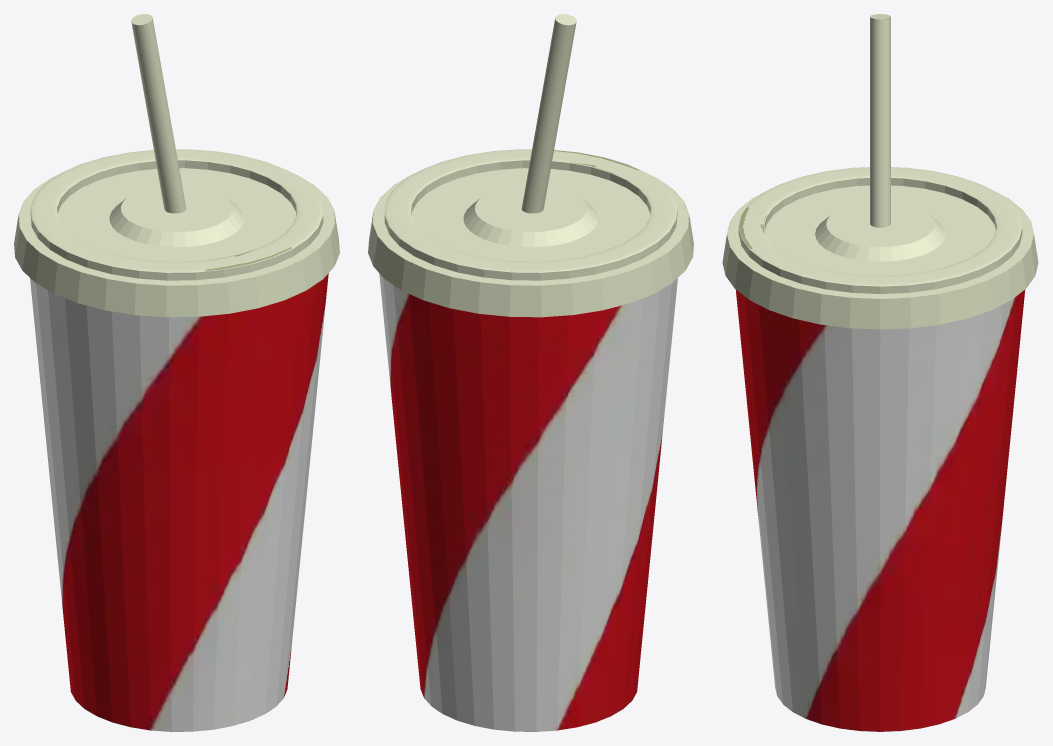
File: mdlVaso.obj
The picture shows the model from 3 angles, left to right: view 1: azimuth 30°, elevation 25°; view 2: azimuth 150°, elevation 25°; view 3: azimuth 270°, elevation 25°; orthographic projection. The views are drawn at different scales.
Parts seen in each view (by area): view 1: mdlVasoBase, mdlVasoTapa; view 2: mdlVasoBase, mdlVasoTapa; view 3: mdlVasoBase, mdlVasoTapa.
Boxes of the visible parts, x1,y1,x2,y2 form: mdlVasoBase: (30,273,328,731); mdlVasoTapa: (14,14,339,317); mdlVasoBase: (379,273,677,731); mdlVasoTapa: (368,14,693,317); mdlVasoBase: (735,289,1025,731); mdlVasoTapa: (722,14,1038,329).
Bounding box in the file's own units: 0.4364 × 0.9981 × 0.4364.
Materials: 2 (2 with a texture image).
